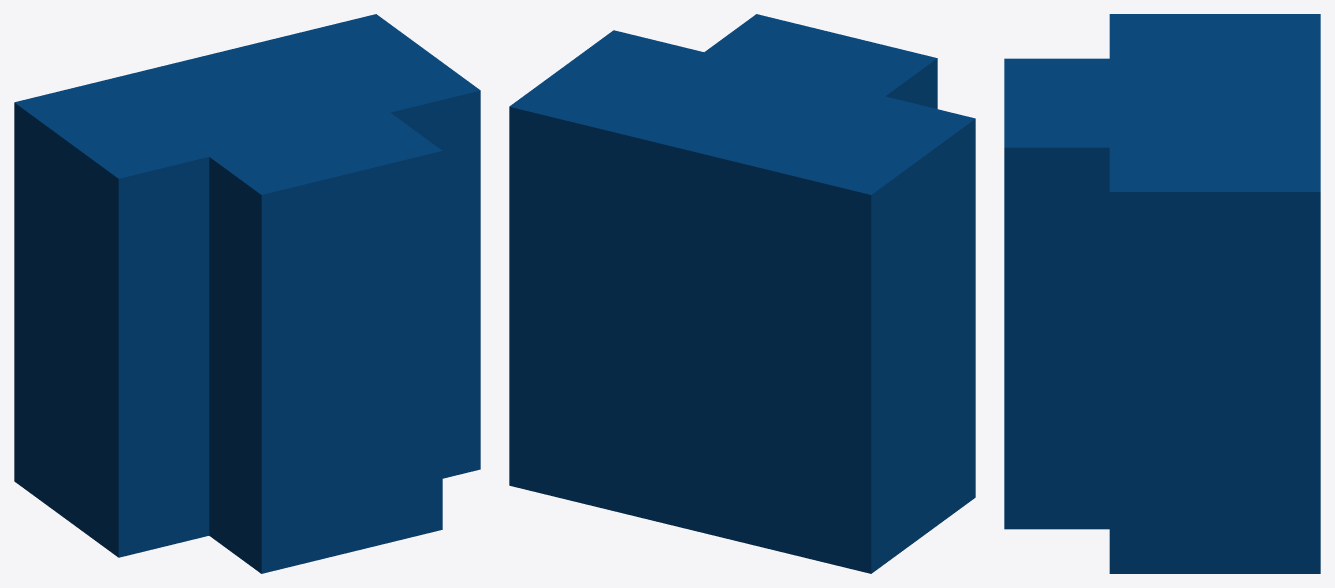
File: tjunction.glb
3 renders of one model, left to right at view 1: azimuth 30°, elevation 25°; view 2: azimuth 150°, elevation 25°; view 3: azimuth 270°, elevation 25°, orthographic.
Visible parts, largest first — view 1: T-Junction; view 2: T-Junction; view 3: T-Junction.
Part boxes in pixels (x1,y1,x2,y2): T-Junction: [14, 14, 480, 573]; T-Junction: [509, 14, 975, 573]; T-Junction: [1004, 14, 1320, 573].
Size of the model in its own units: 2 by 2 by 1.5.
